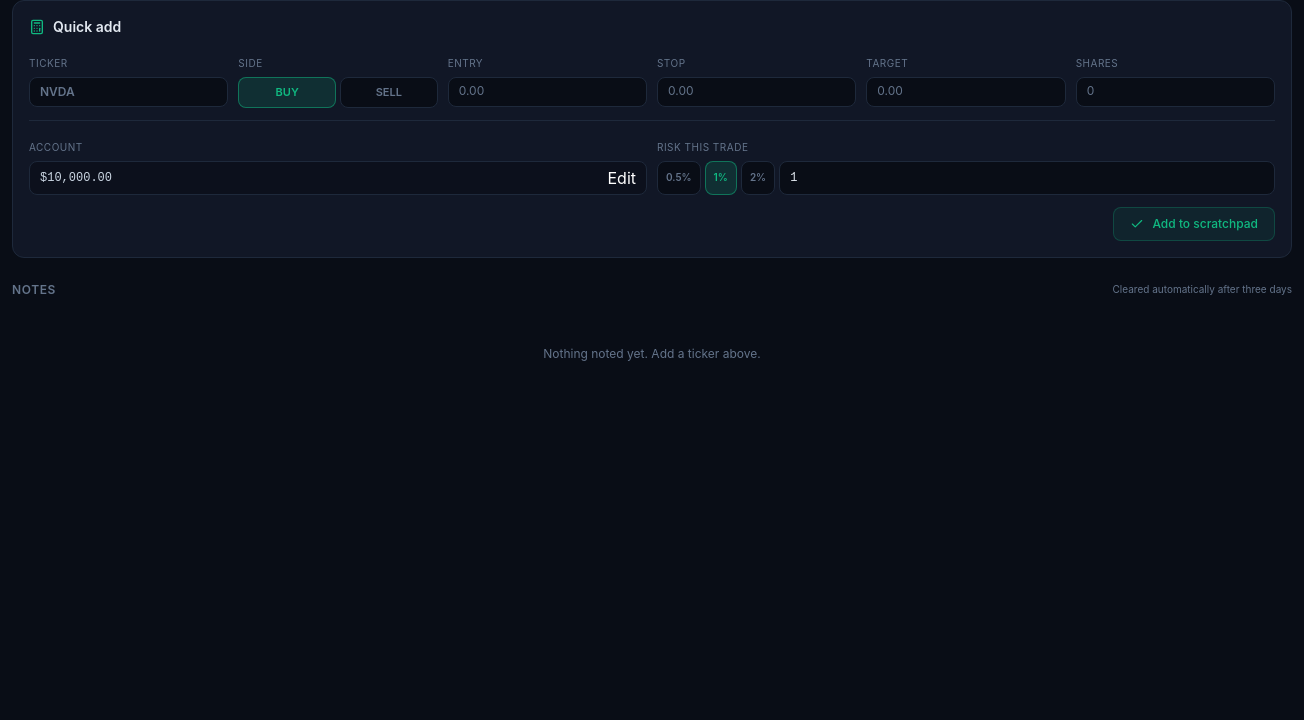
Test: the risk % control › lets a typed value win over the account default
Expected: the number field named "Risk percent" holds "1", [779,160,1275,194]
Type "100" into the number field labelled "Entry" at (547, 92), box [448,77,647,107]
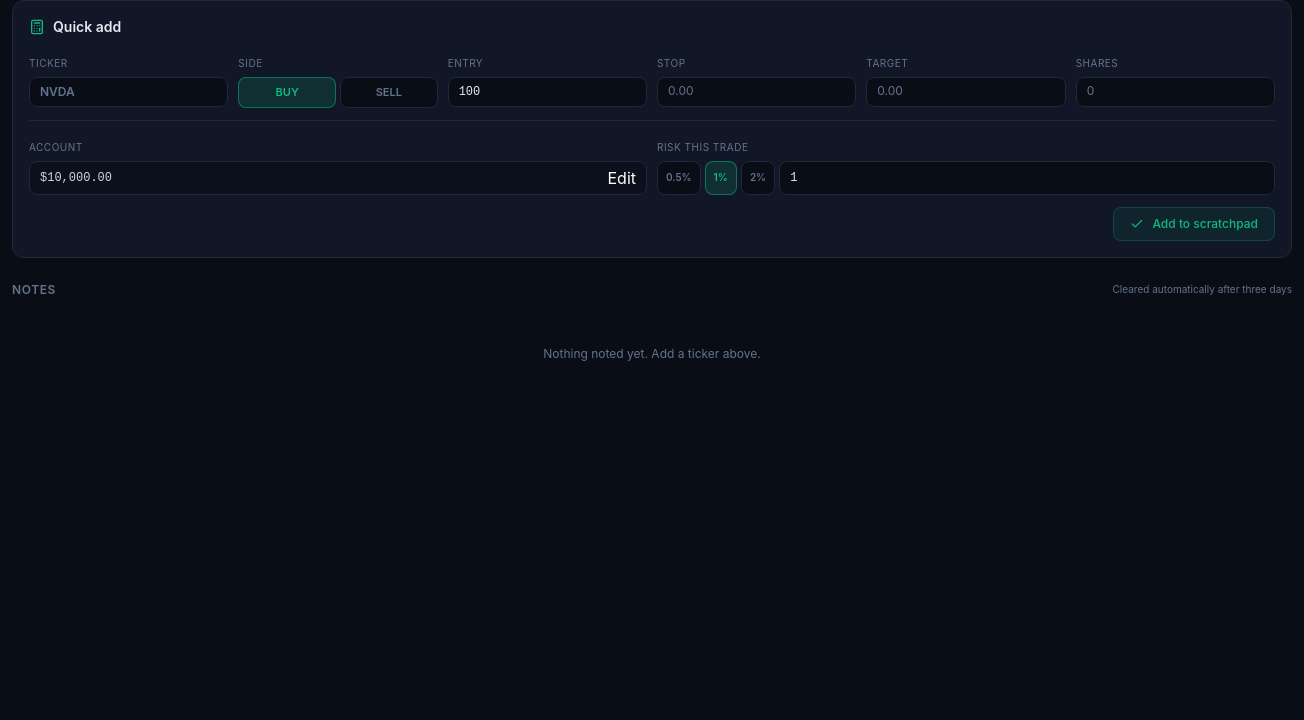
Type "95" into the number field labelled "Stop" at (757, 92), box [657,77,856,107]
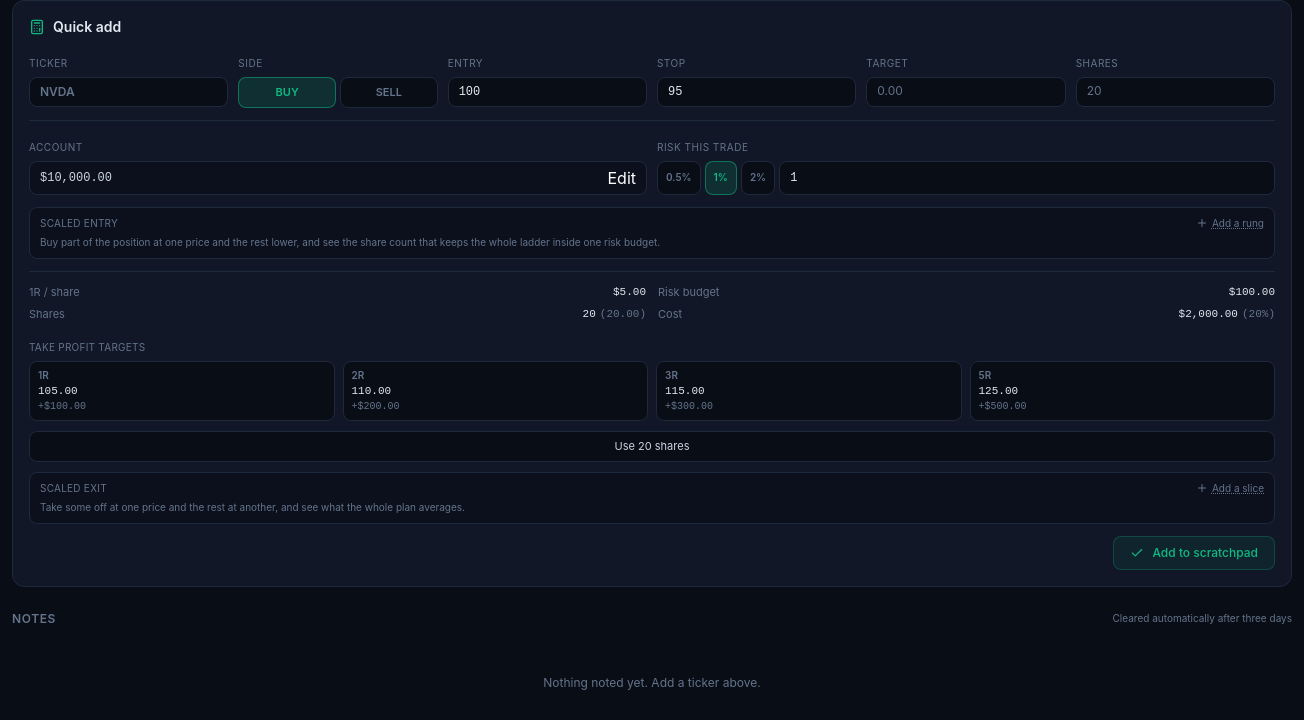
Type "0.5" into the number field named "Risk percent" at (1027, 178), box [779,160,1275,194]
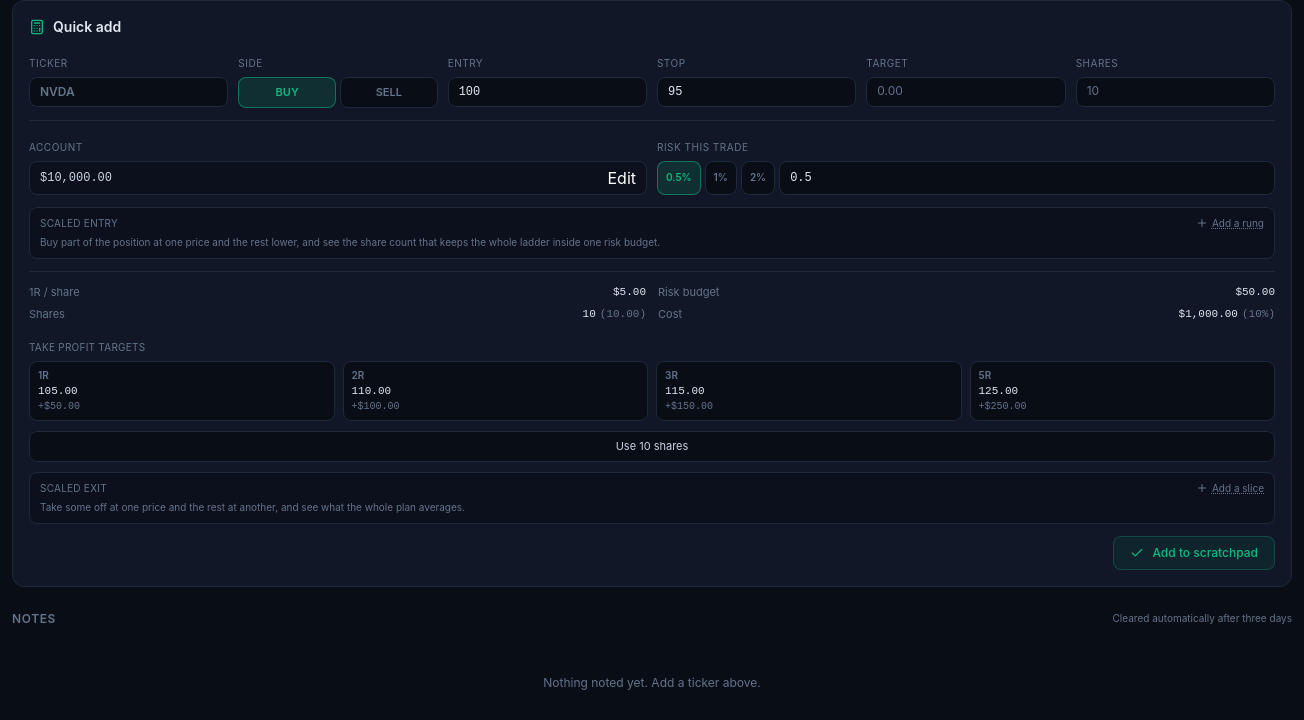
Result: the button "Use 10 shares" is shown at [29,431,1275,462]
